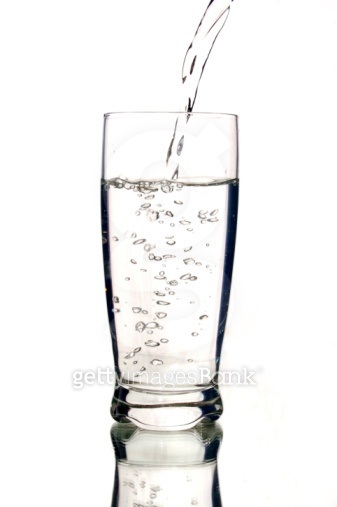glass of water: (97, 103, 245, 470)
